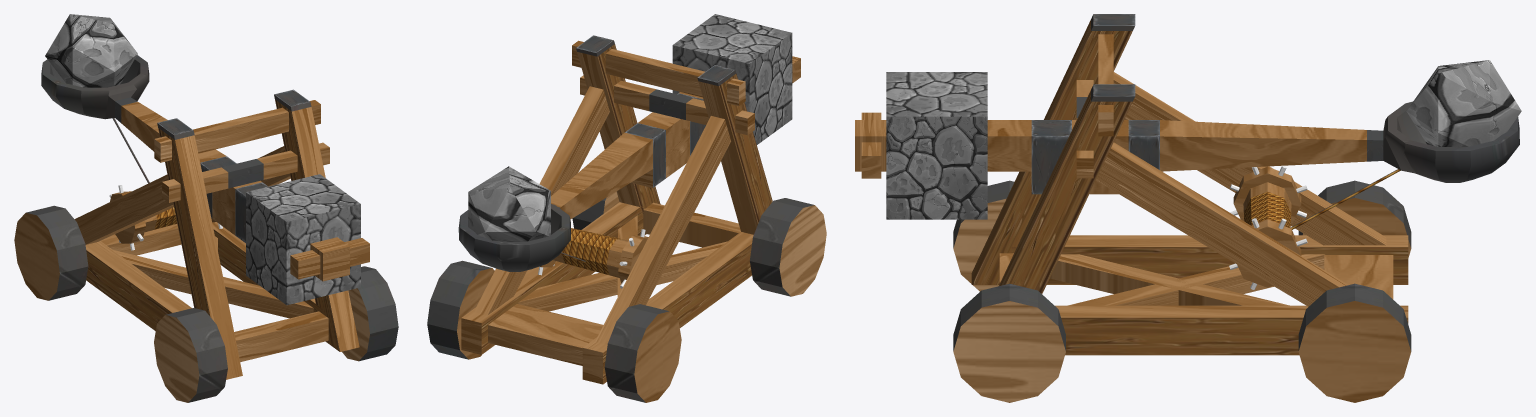
File: cau da lv1 (2).fbx
3 renders of one model, left to right at view 1: azimuth 30°, elevation 25°; view 2: azimuth 150°, elevation 25°; view 3: azimuth 270°, elevation 25°, orthographic. The views are drawn at different scales.
Visible parts, largest first — view 1: polySurface151, polySurface119, polySurface128; view 2: polySurface151, polySurface119, polySurface128; view 3: polySurface151, polySurface119, polySurface128.
Boxes of the visible parts, x1,y1,x2,y2 form: polySurface151: (14,89,398,402); polySurface119: (41,55,369,305); polySurface128: (45,14,137,87); polySurface151: (427,35,826,402); polySurface119: (458,14,800,271); polySurface128: (468,166,550,241); polySurface151: (953,14,1411,402); polySurface119: (855,72,1519,219); polySurface128: (1406,60,1521,146).
Bounding box in the file's own units: 4.87 × 5.44 × 11.42.
Materials: 2 (2 with a texture image).
